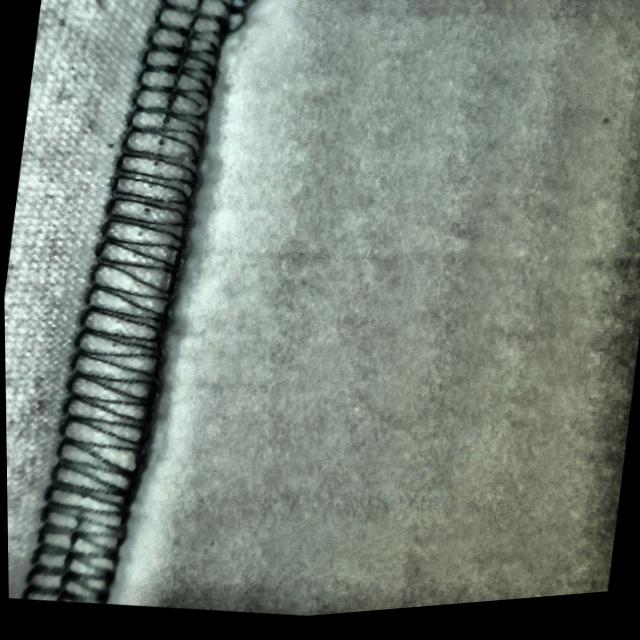Stitch: (157, 0, 289, 47)
